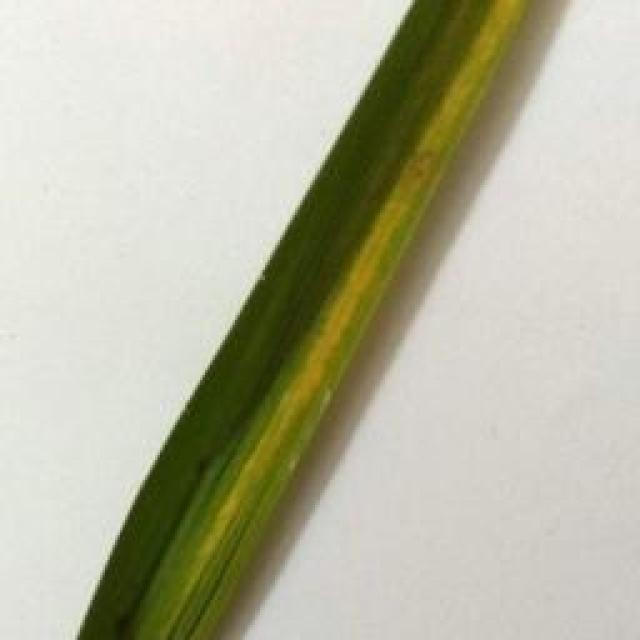Bacterial_Blight: (164, 0, 539, 638)
